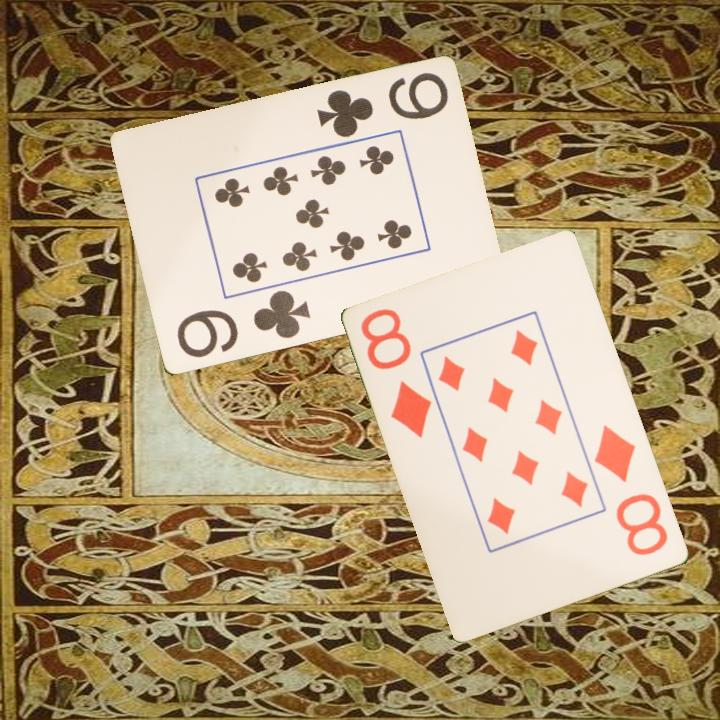8d: (591, 421, 672, 559), (357, 305, 436, 442)
9c: (173, 287, 313, 362), (313, 69, 451, 141)
